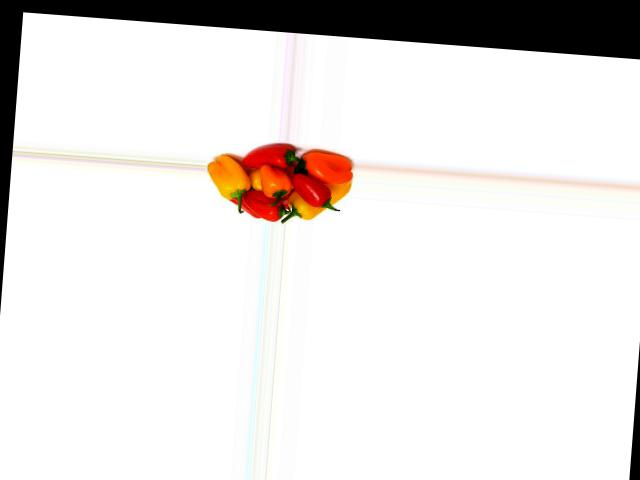bell_pepper: (286, 177, 350, 226)
